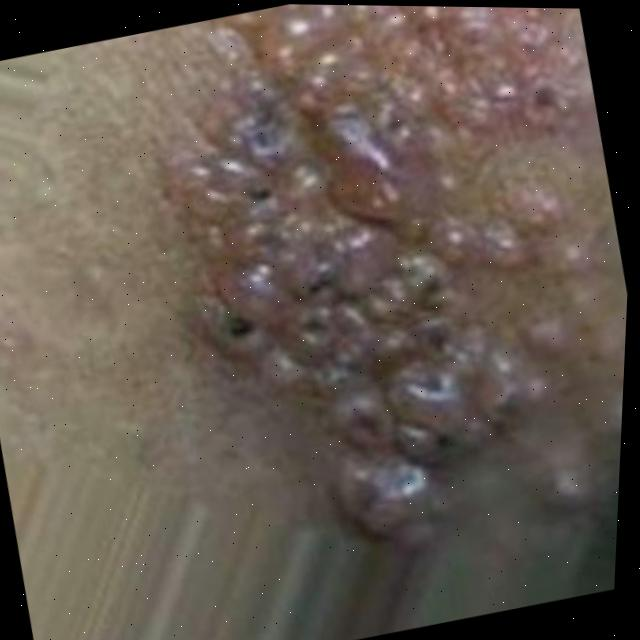Shingles: (127, 2, 640, 585)
